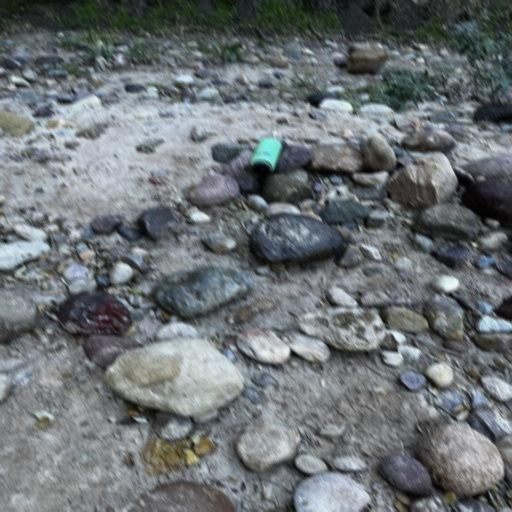bottle: (244, 138, 282, 175)
